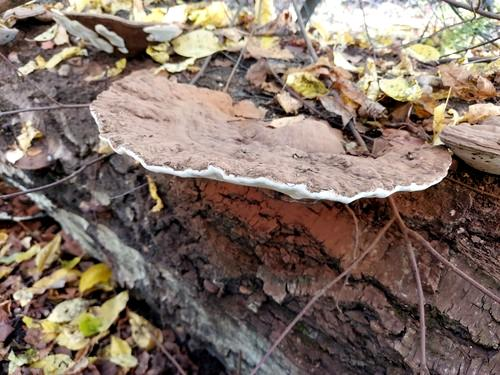Ganoderma - Fruit Body: (93, 62, 454, 206)
